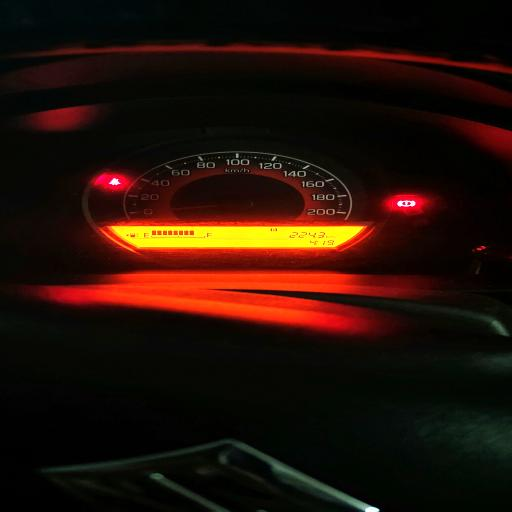belt: (108, 178, 120, 185)
brake_system_fault: (396, 199, 416, 207)
